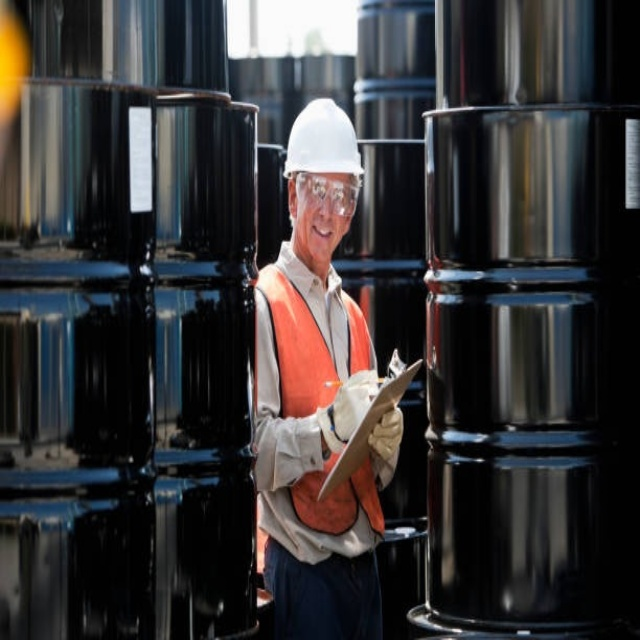Gafas: (295, 171, 362, 219)
Guantes: (322, 370, 380, 450), (367, 403, 404, 474)
Sin_mascara: (311, 224, 333, 240)
